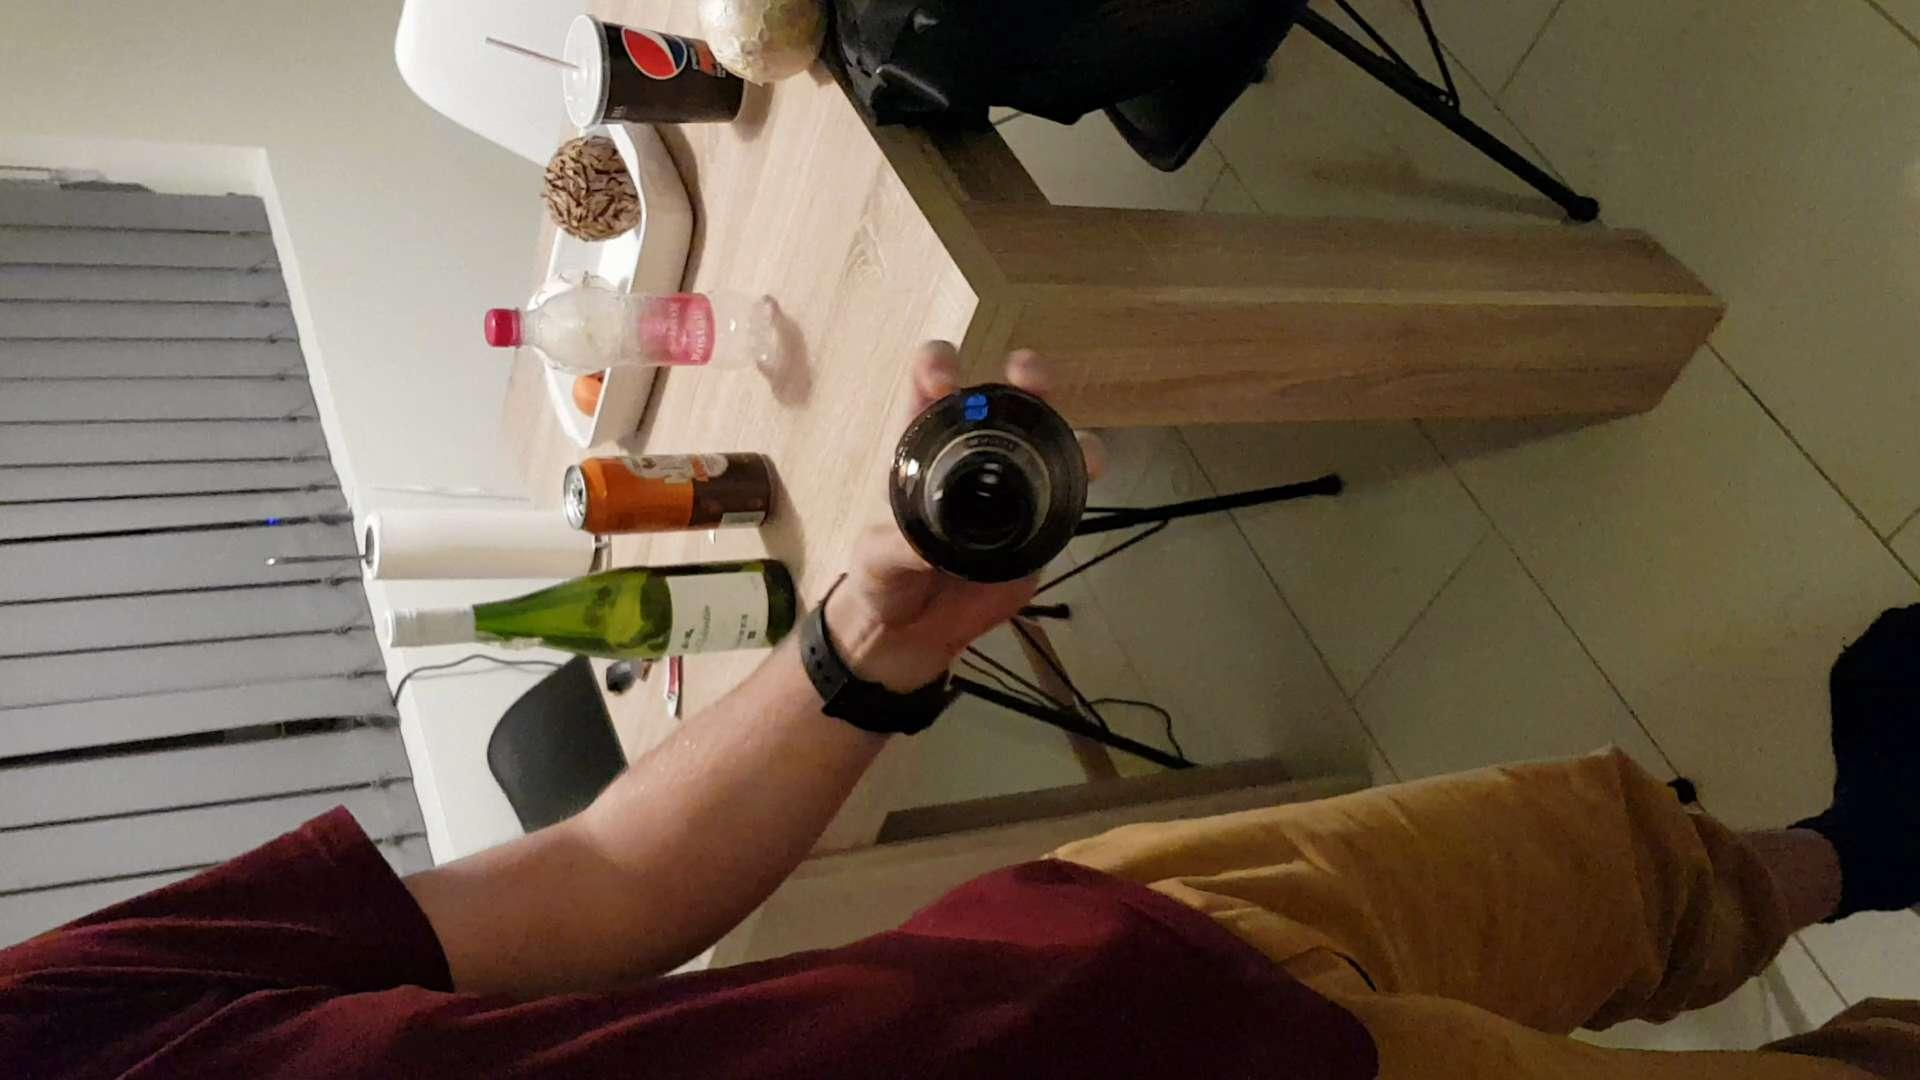Bottle: (876, 390, 1091, 585), (396, 564, 796, 655), (477, 285, 782, 371)
Can: (555, 450, 779, 531)
